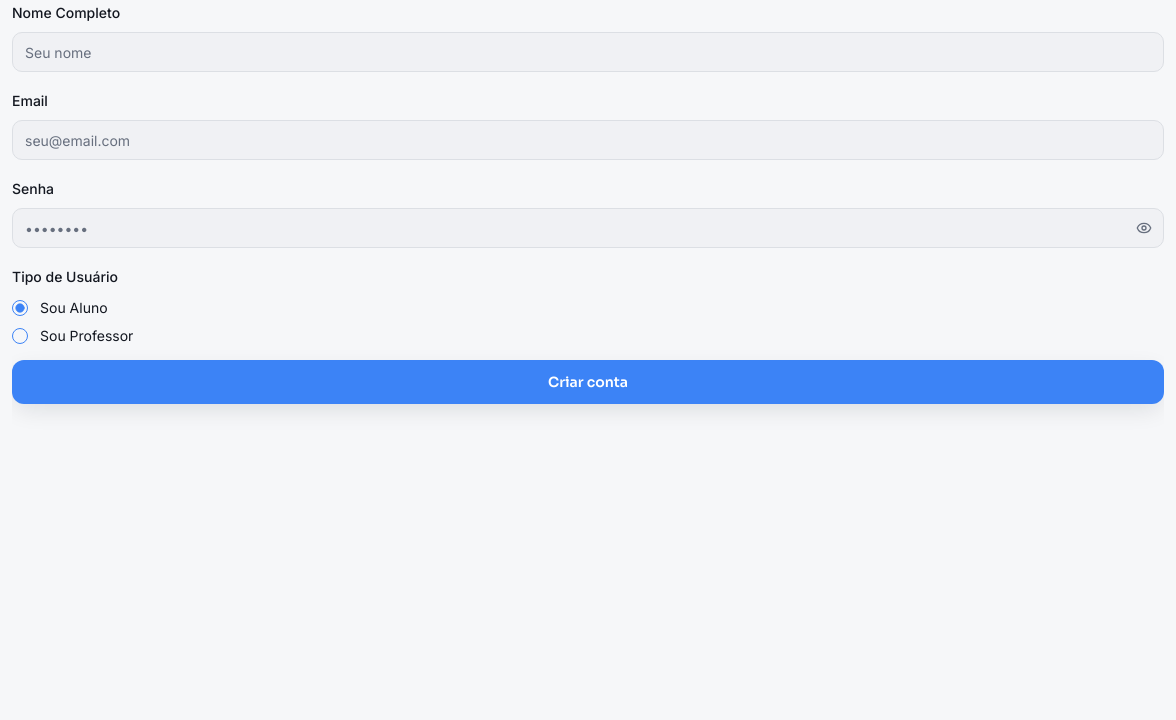
Scenario: SignUpForm › shows error for invalid email
Type "invalid-email" into the field labelled "Email" at [588, 140], box [12,120,1164,160]
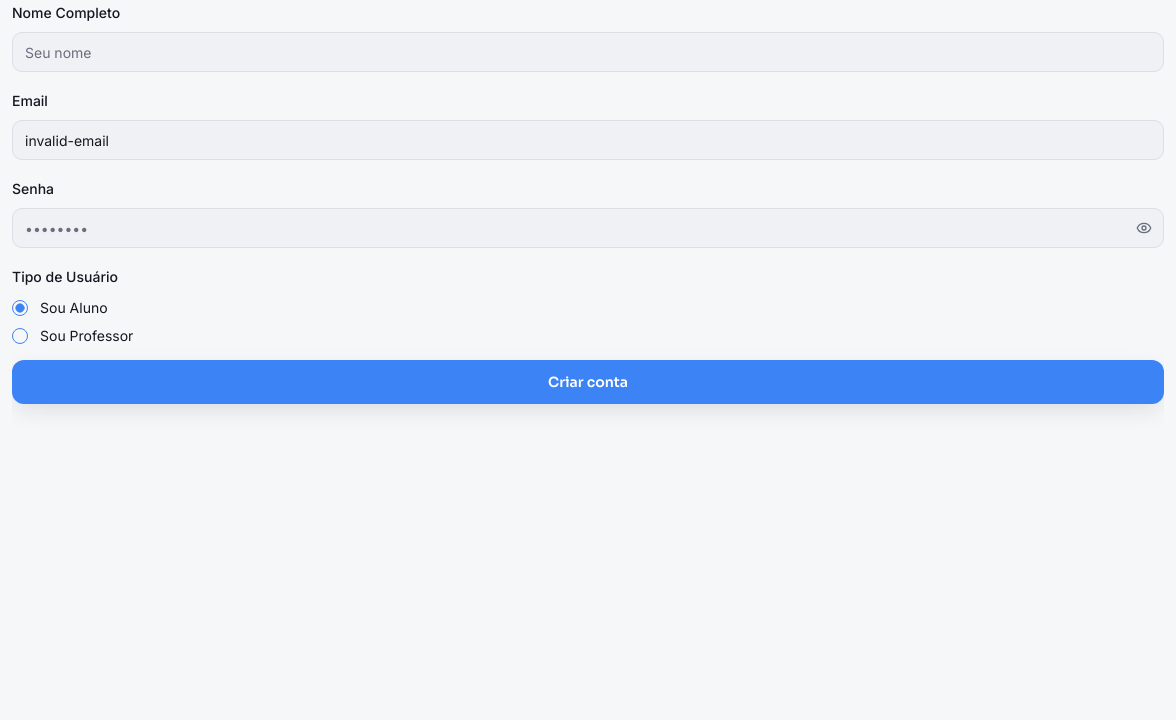
Click the button "Criar conta" at [588, 382], box [12,360,1164,404]
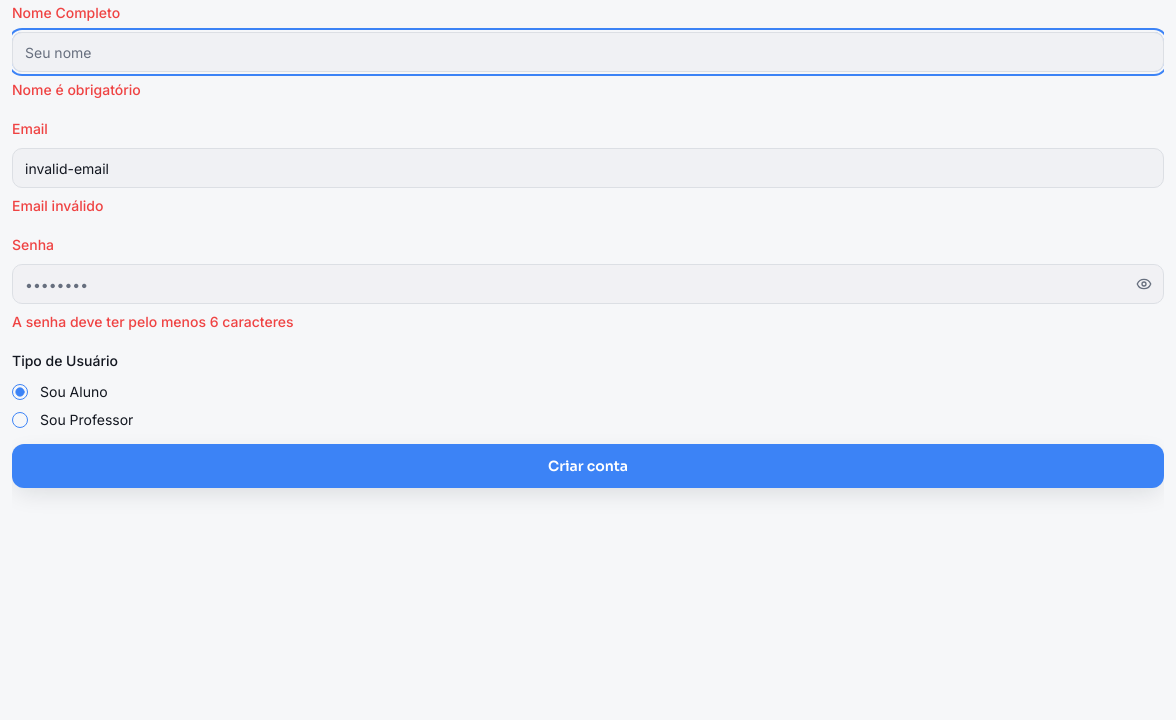
Result: the text "Email inválido" is shown at [12,197,103,214]
